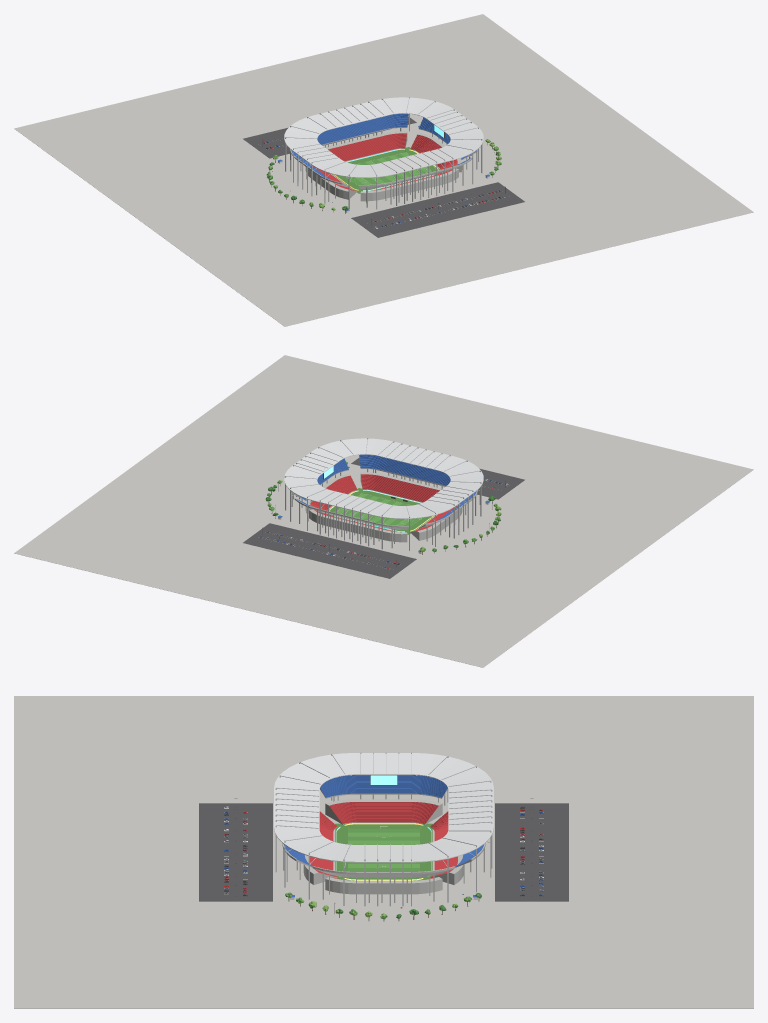
The model's file is stadium.glb.
3 views of the same model, one above another, from view 1: azimuth 30°, elevation 25°; view 2: azimuth 150°, elevation 25°; view 3: azimuth 270°, elevation 25° (orthographic). The views are drawn at different scales.
Parts seen in each view (by area): view 1: map; view 2: map; view 3: map.
Part boxes in pixels (x1=…): map: x1=14, y1=14, x2=753, y2=326; map: x1=14, y1=355, x2=753, y2=667; map: x1=14, y1=696, x2=753, y2=1008.
Size of the model in its own units: 700 by 48.95 by 700.
